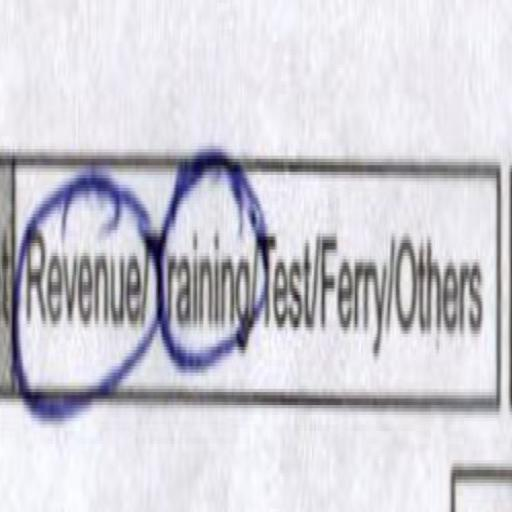check: (14, 98, 144, 417), (152, 106, 259, 434)
